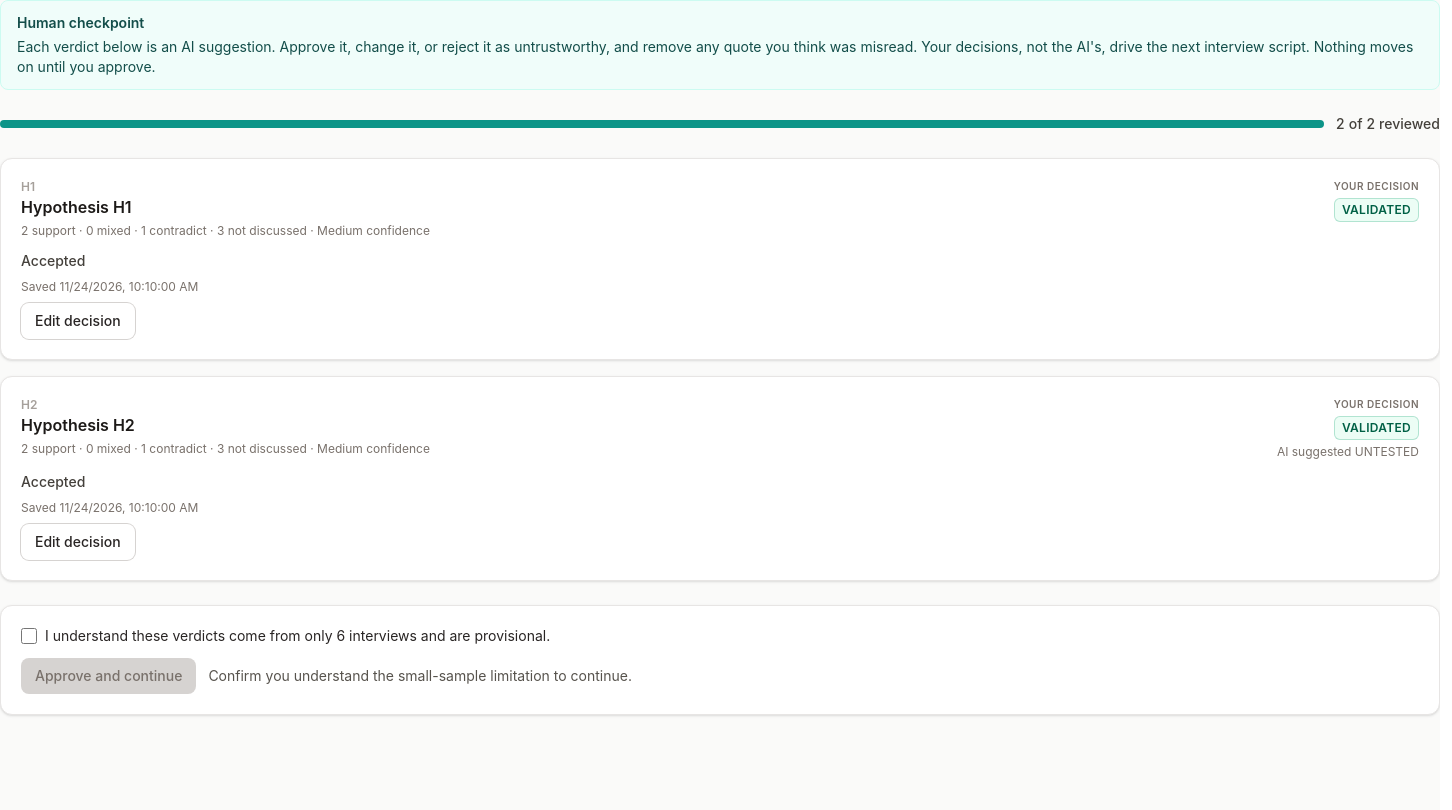
it: ReviewStep checkpoint › requires the small-sample acknowledgement when there are fewer than 5 interviews
The width and height of the screenshot is (1452, 810).
Check: the button "Approve and continue" is disabled, box [21,658,196,694]
What coordinates should you click on to do the following:
click the checkbox labelled "provisional"
I would click on:
 (29, 636)
Its box is [21,628,37,644].
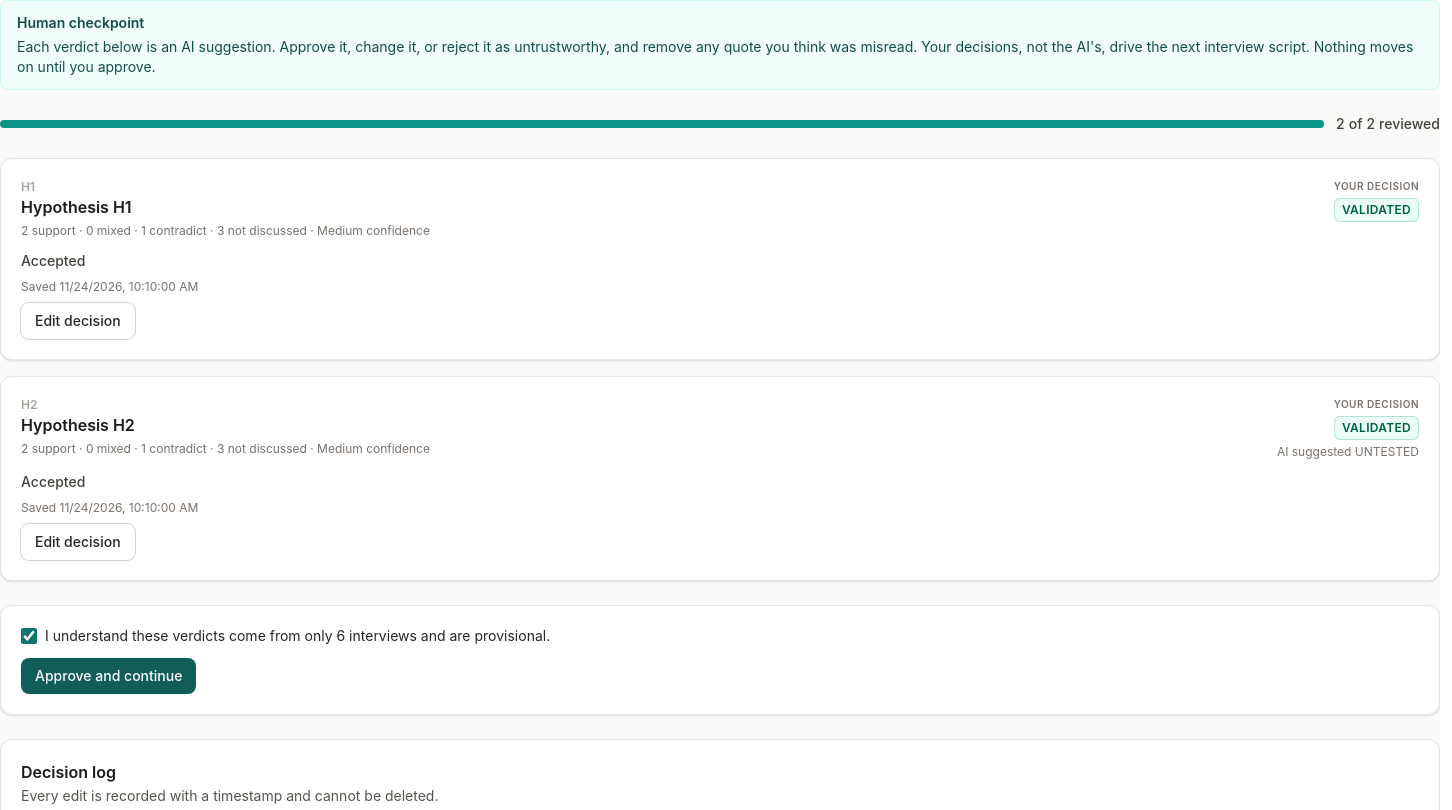
Check: the button "Approve and continue" is enabled, box [21,658,196,694]
